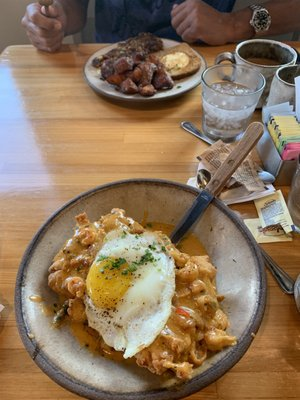pizza: (200, 62, 265, 141)
salad: (170, 122, 263, 244)
sushi: (5, 183, 267, 400)
